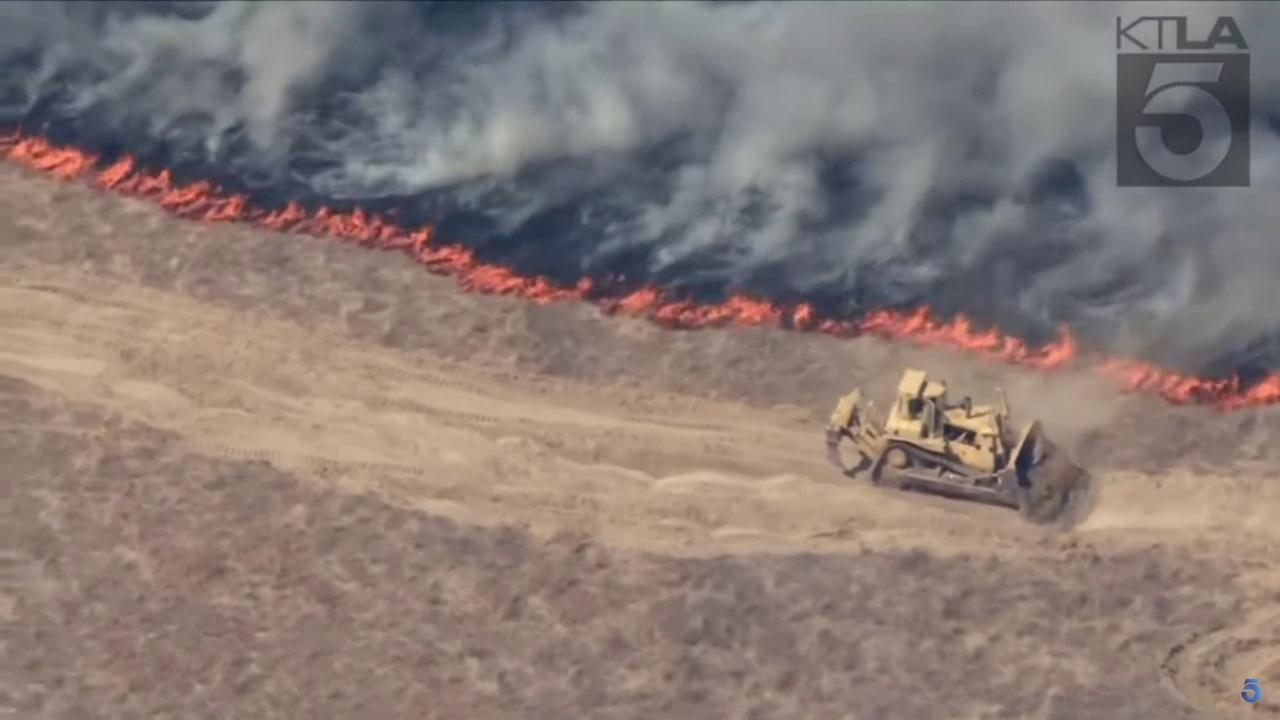fire: (0, 122, 597, 307), (599, 279, 1280, 417)
smoke: (0, 0, 1280, 369)
